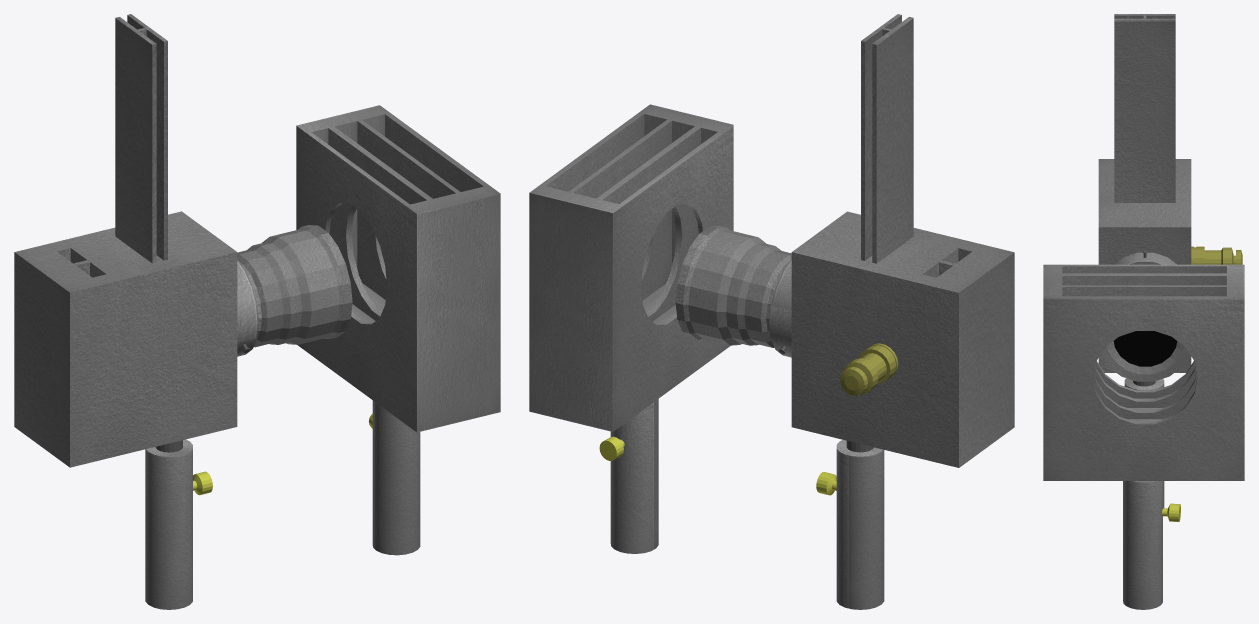
File: Led_system_4_1.glb
3 renders of one model, left to right at view 1: azimuth 30°, elevation 25°; view 2: azimuth 150°, elevation 25°; view 3: azimuth 270°, elevation 25°, orthographic. The views are drawn at different scales.
Parts seen in each view (by area): view 1: Box001, Box002, Cylinder002, Cylinder001, Cylinder364; view 2: Box001, Box002, Cylinder002, Cylinder001, Cylinder364, Cylinder004; view 3: Box002, Box001, Cylinder364, Cylinder002, Object066, Cylinder004, Cylinder001.
Part boxes in pixels (box(x1,y1,x2,y2)): Box001: box(14, 14, 237, 467); Box002: box(296, 105, 500, 432); Cylinder002: box(237, 225, 352, 356); Cylinder001: box(145, 439, 192, 609); Cylinder364: box(372, 400, 420, 555); Box001: box(791, 14, 1014, 467); Box002: box(529, 104, 733, 431); Cylinder002: box(675, 225, 791, 357); Cylinder001: box(836, 440, 884, 609); Cylinder364: box(610, 399, 658, 553); Cylinder004: box(840, 343, 898, 395); Box002: box(1043, 264, 1244, 480); Box001: box(1098, 14, 1191, 372); Cylinder364: box(1123, 481, 1162, 609); Cylinder002: box(1101, 252, 1189, 381); Object066: box(1113, 331, 1177, 366); Cylinder004: box(1191, 246, 1242, 264); Cylinder001: box(1124, 378, 1164, 508).
Bounding box in the file's own units: 9.51 × 13.18 × 5.
Materials: 5 (1 with a texture image).
